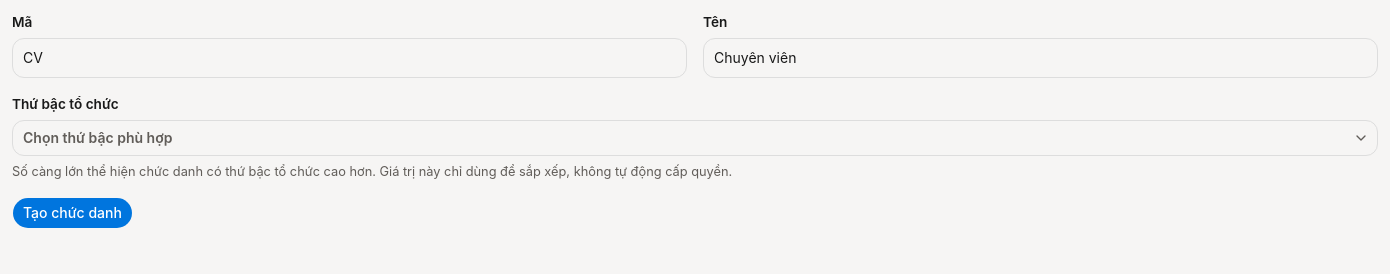
PositionForm › requires an organizational rank selection
Click the button "Tạo chức danh".
click(72, 213)  # box [12,197,133,229]
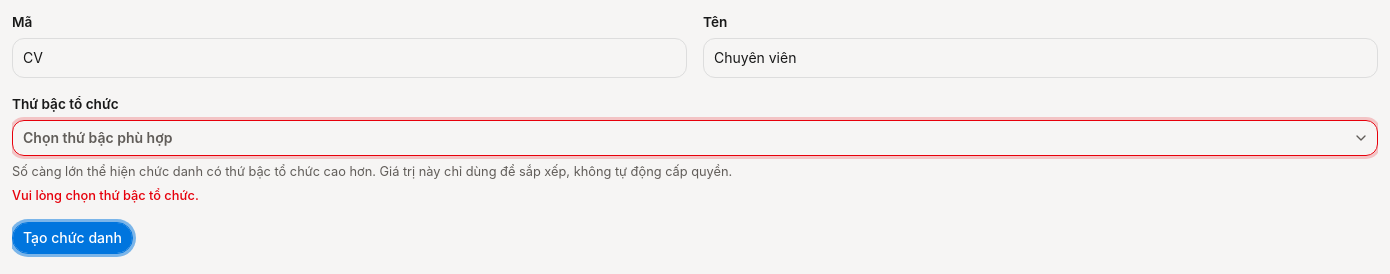
Check: the message reads "Vui lòng chọn thứ bậc tổ chức.", box [12,188,199,203]
